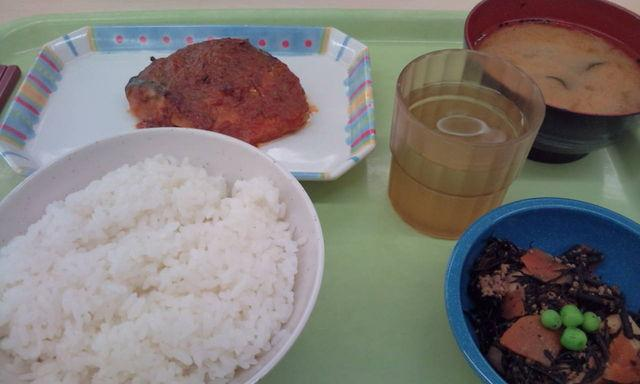plate: (0, 128, 324, 383), (0, 25, 374, 179)
rice: (0, 156, 305, 383)
